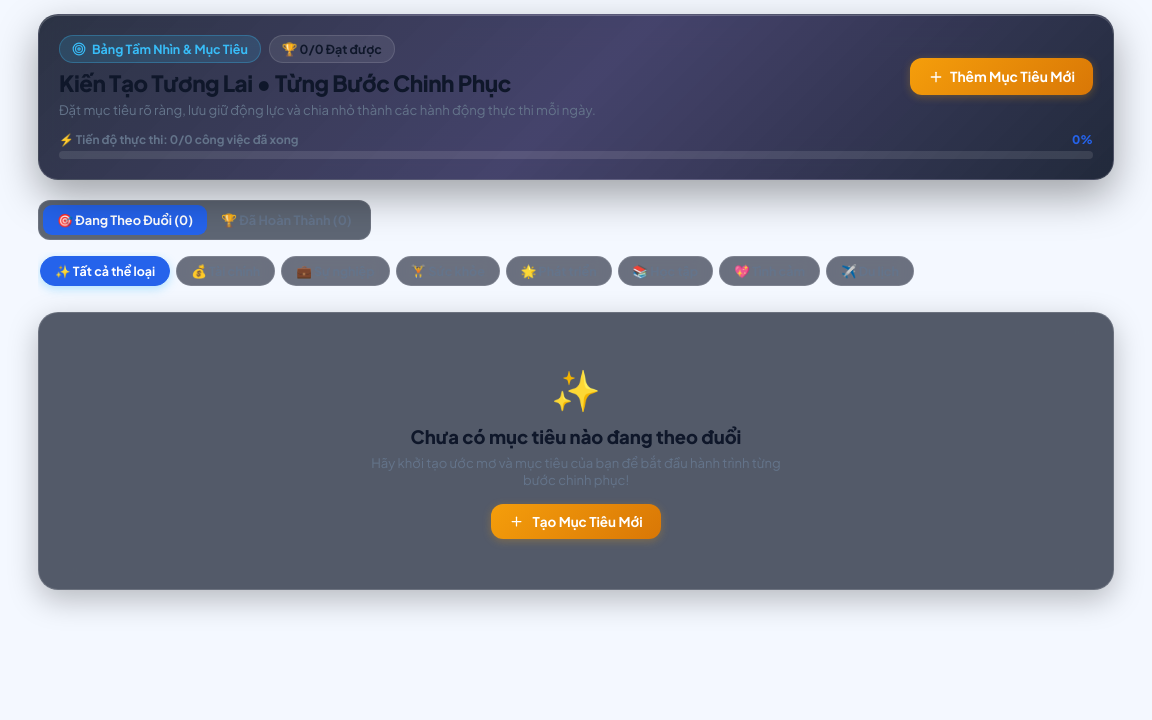
Test: GoalsPage › mở modal tạo mục tiêu mới
What coordinates should you click on to do the following:
click the button "Thêm Mục Tiêu Mới"
I would click on:
 (1001, 76)
Its box is x1=910 y1=58 x2=1093 y2=95.
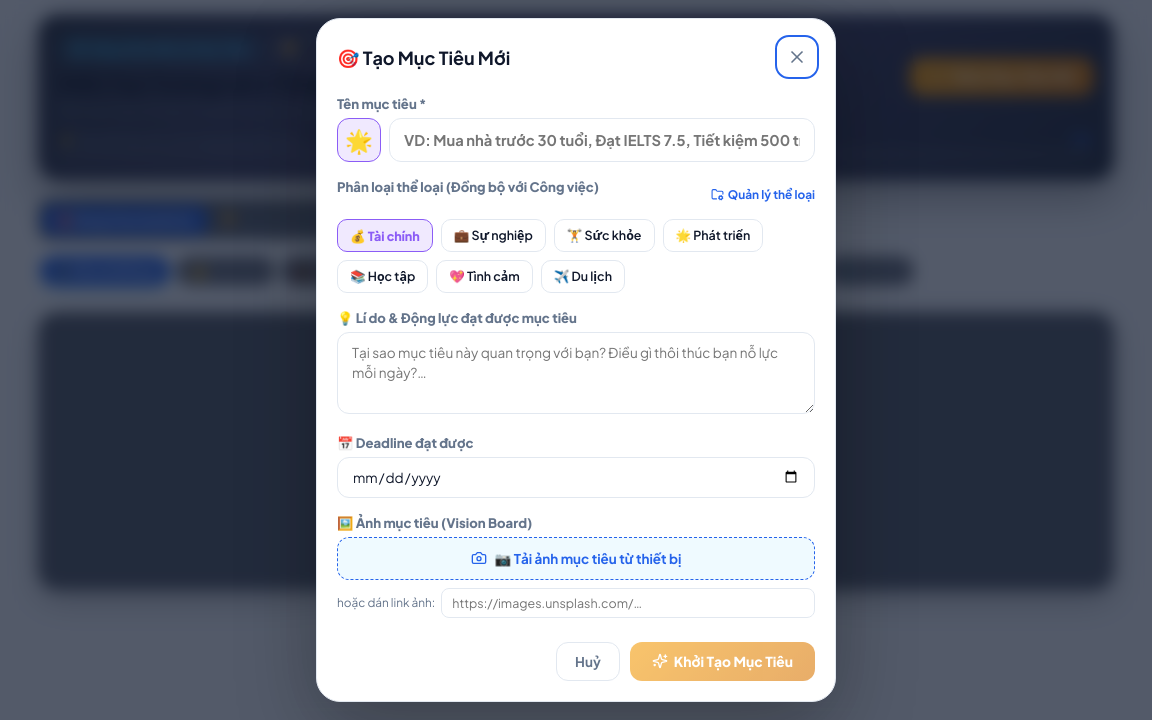
Expected: the button "Tạo Mục Tiêu Mới" is shown, x1=491 y1=504 x2=661 y2=539
Expected: the field with placeholder "VD: Mua nhà trước 30 tuổi" is shown, x1=389 y1=118 x2=815 y2=162
